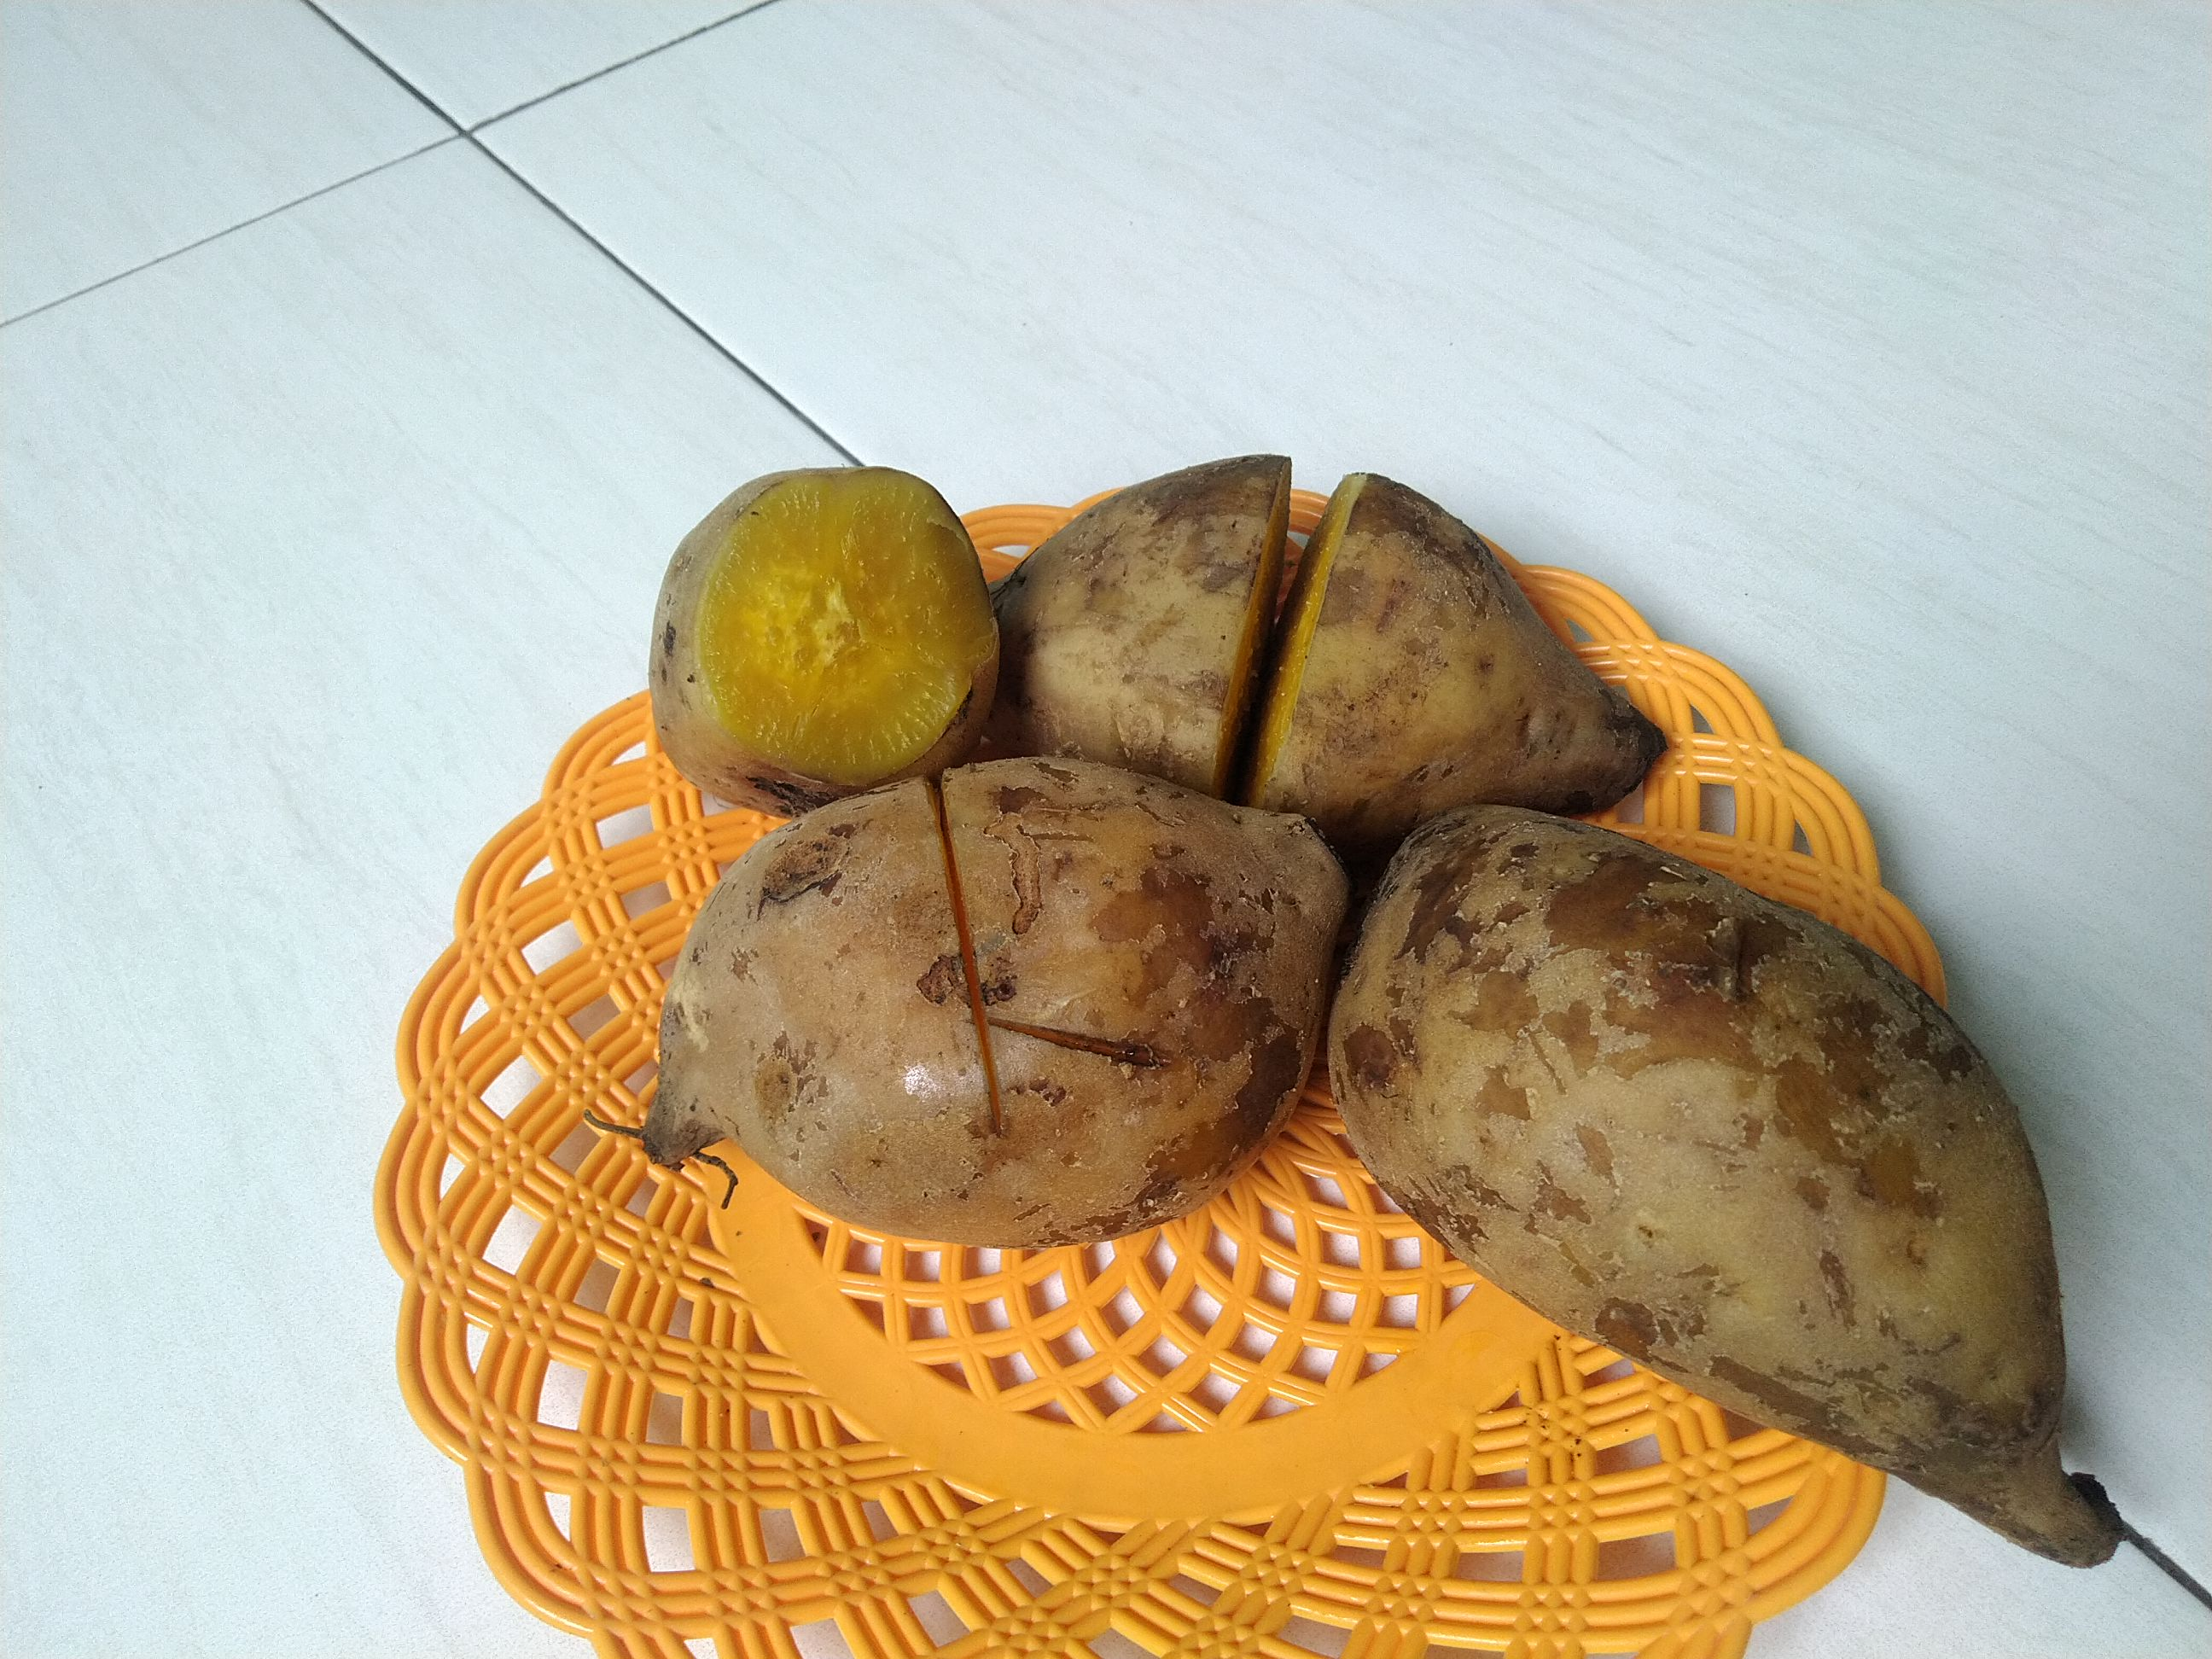ubi kuning: (1343, 791, 2179, 1600), (617, 753, 1369, 1262), (986, 416, 1651, 857), (634, 455, 1001, 814)
